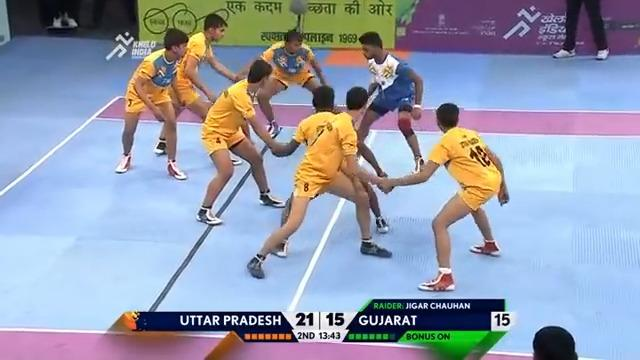Player: (246, 84, 392, 278), (376, 102, 509, 291), (195, 58, 289, 225), (153, 13, 243, 165), (114, 27, 189, 180), (235, 29, 329, 145), (332, 85, 392, 233)
Raider: (354, 30, 425, 176)
referee: (551, 0, 610, 60), (37, 0, 80, 30)
